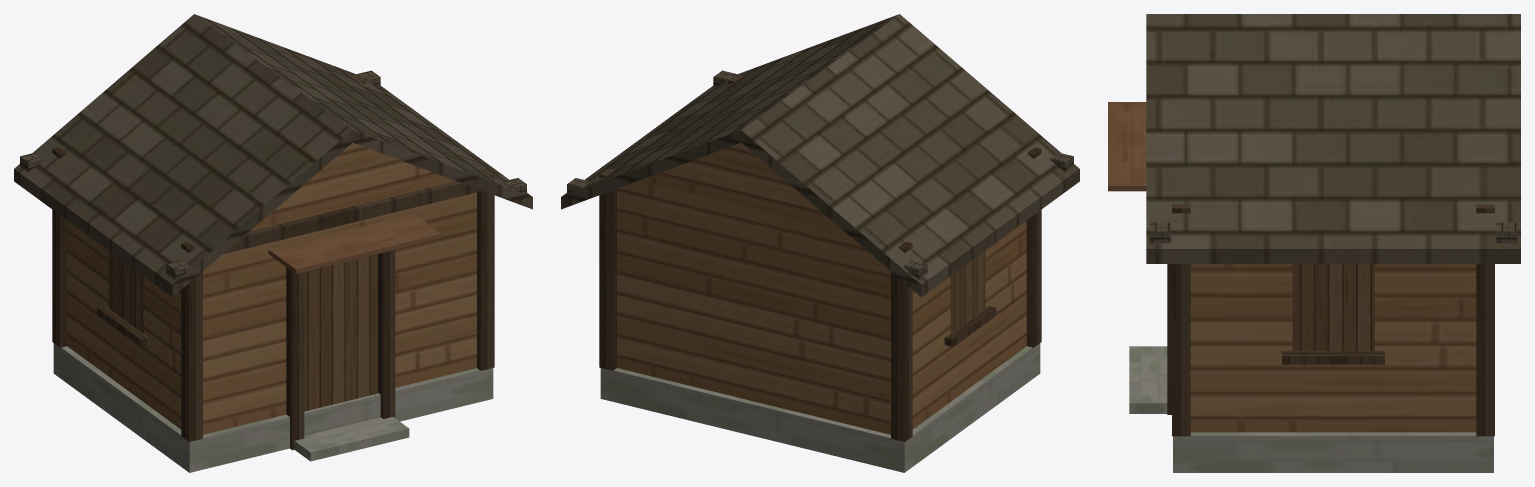
File: ae_forest_wood_small_booth_lod0.glb
3 views of the same model, side by side, from view 1: azimuth 30°, elevation 25°; view 2: azimuth 150°, elevation 25°; view 3: azimuth 270°, elevation 25° (orthographic). The views are drawn at different scales.
Visible parts, largest first — view 1: ae_forest_wood_small_booth_lod0; view 2: ae_forest_wood_small_booth_lod0; view 3: ae_forest_wood_small_booth_lod0.
Part boxes in pixels (box(x1,y1,x2,y2)): ae_forest_wood_small_booth_lod0: box(14, 14, 532, 472); ae_forest_wood_small_booth_lod0: box(561, 14, 1079, 472); ae_forest_wood_small_booth_lod0: box(1108, 14, 1520, 472).
Size of the model in its own units: 4.2 by 3.5 by 3.53.
1 material, 1 textured.
